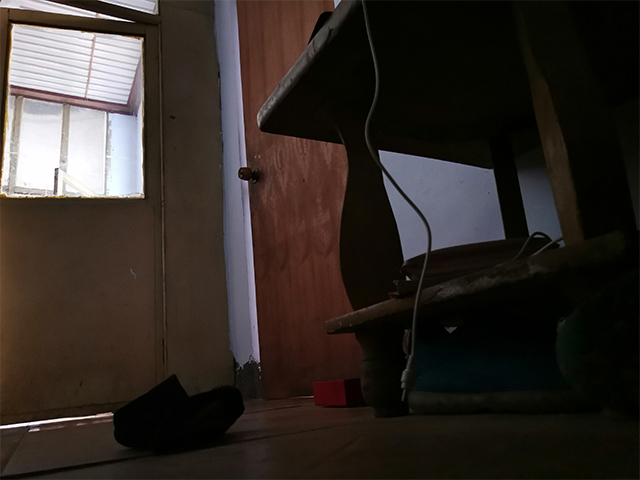socks: (111, 372, 244, 457)
table: (253, 1, 640, 421)
wire: (355, 1, 568, 405)
